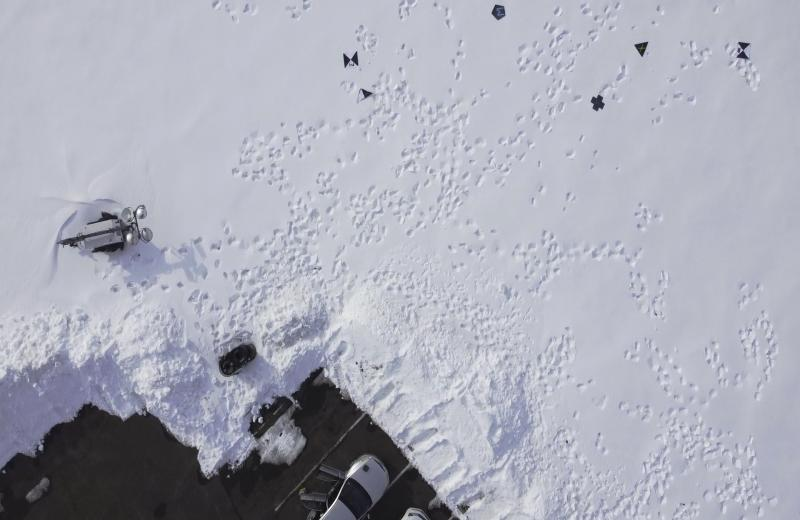Cross: (588, 94, 607, 113)
Pentagon: (490, 3, 506, 22)
Triangle: (633, 41, 650, 58)
